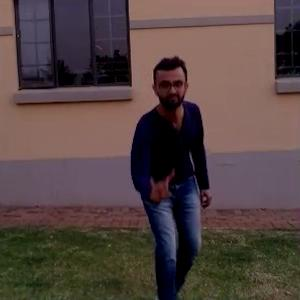takeoff-hand: (143, 158, 178, 204)
